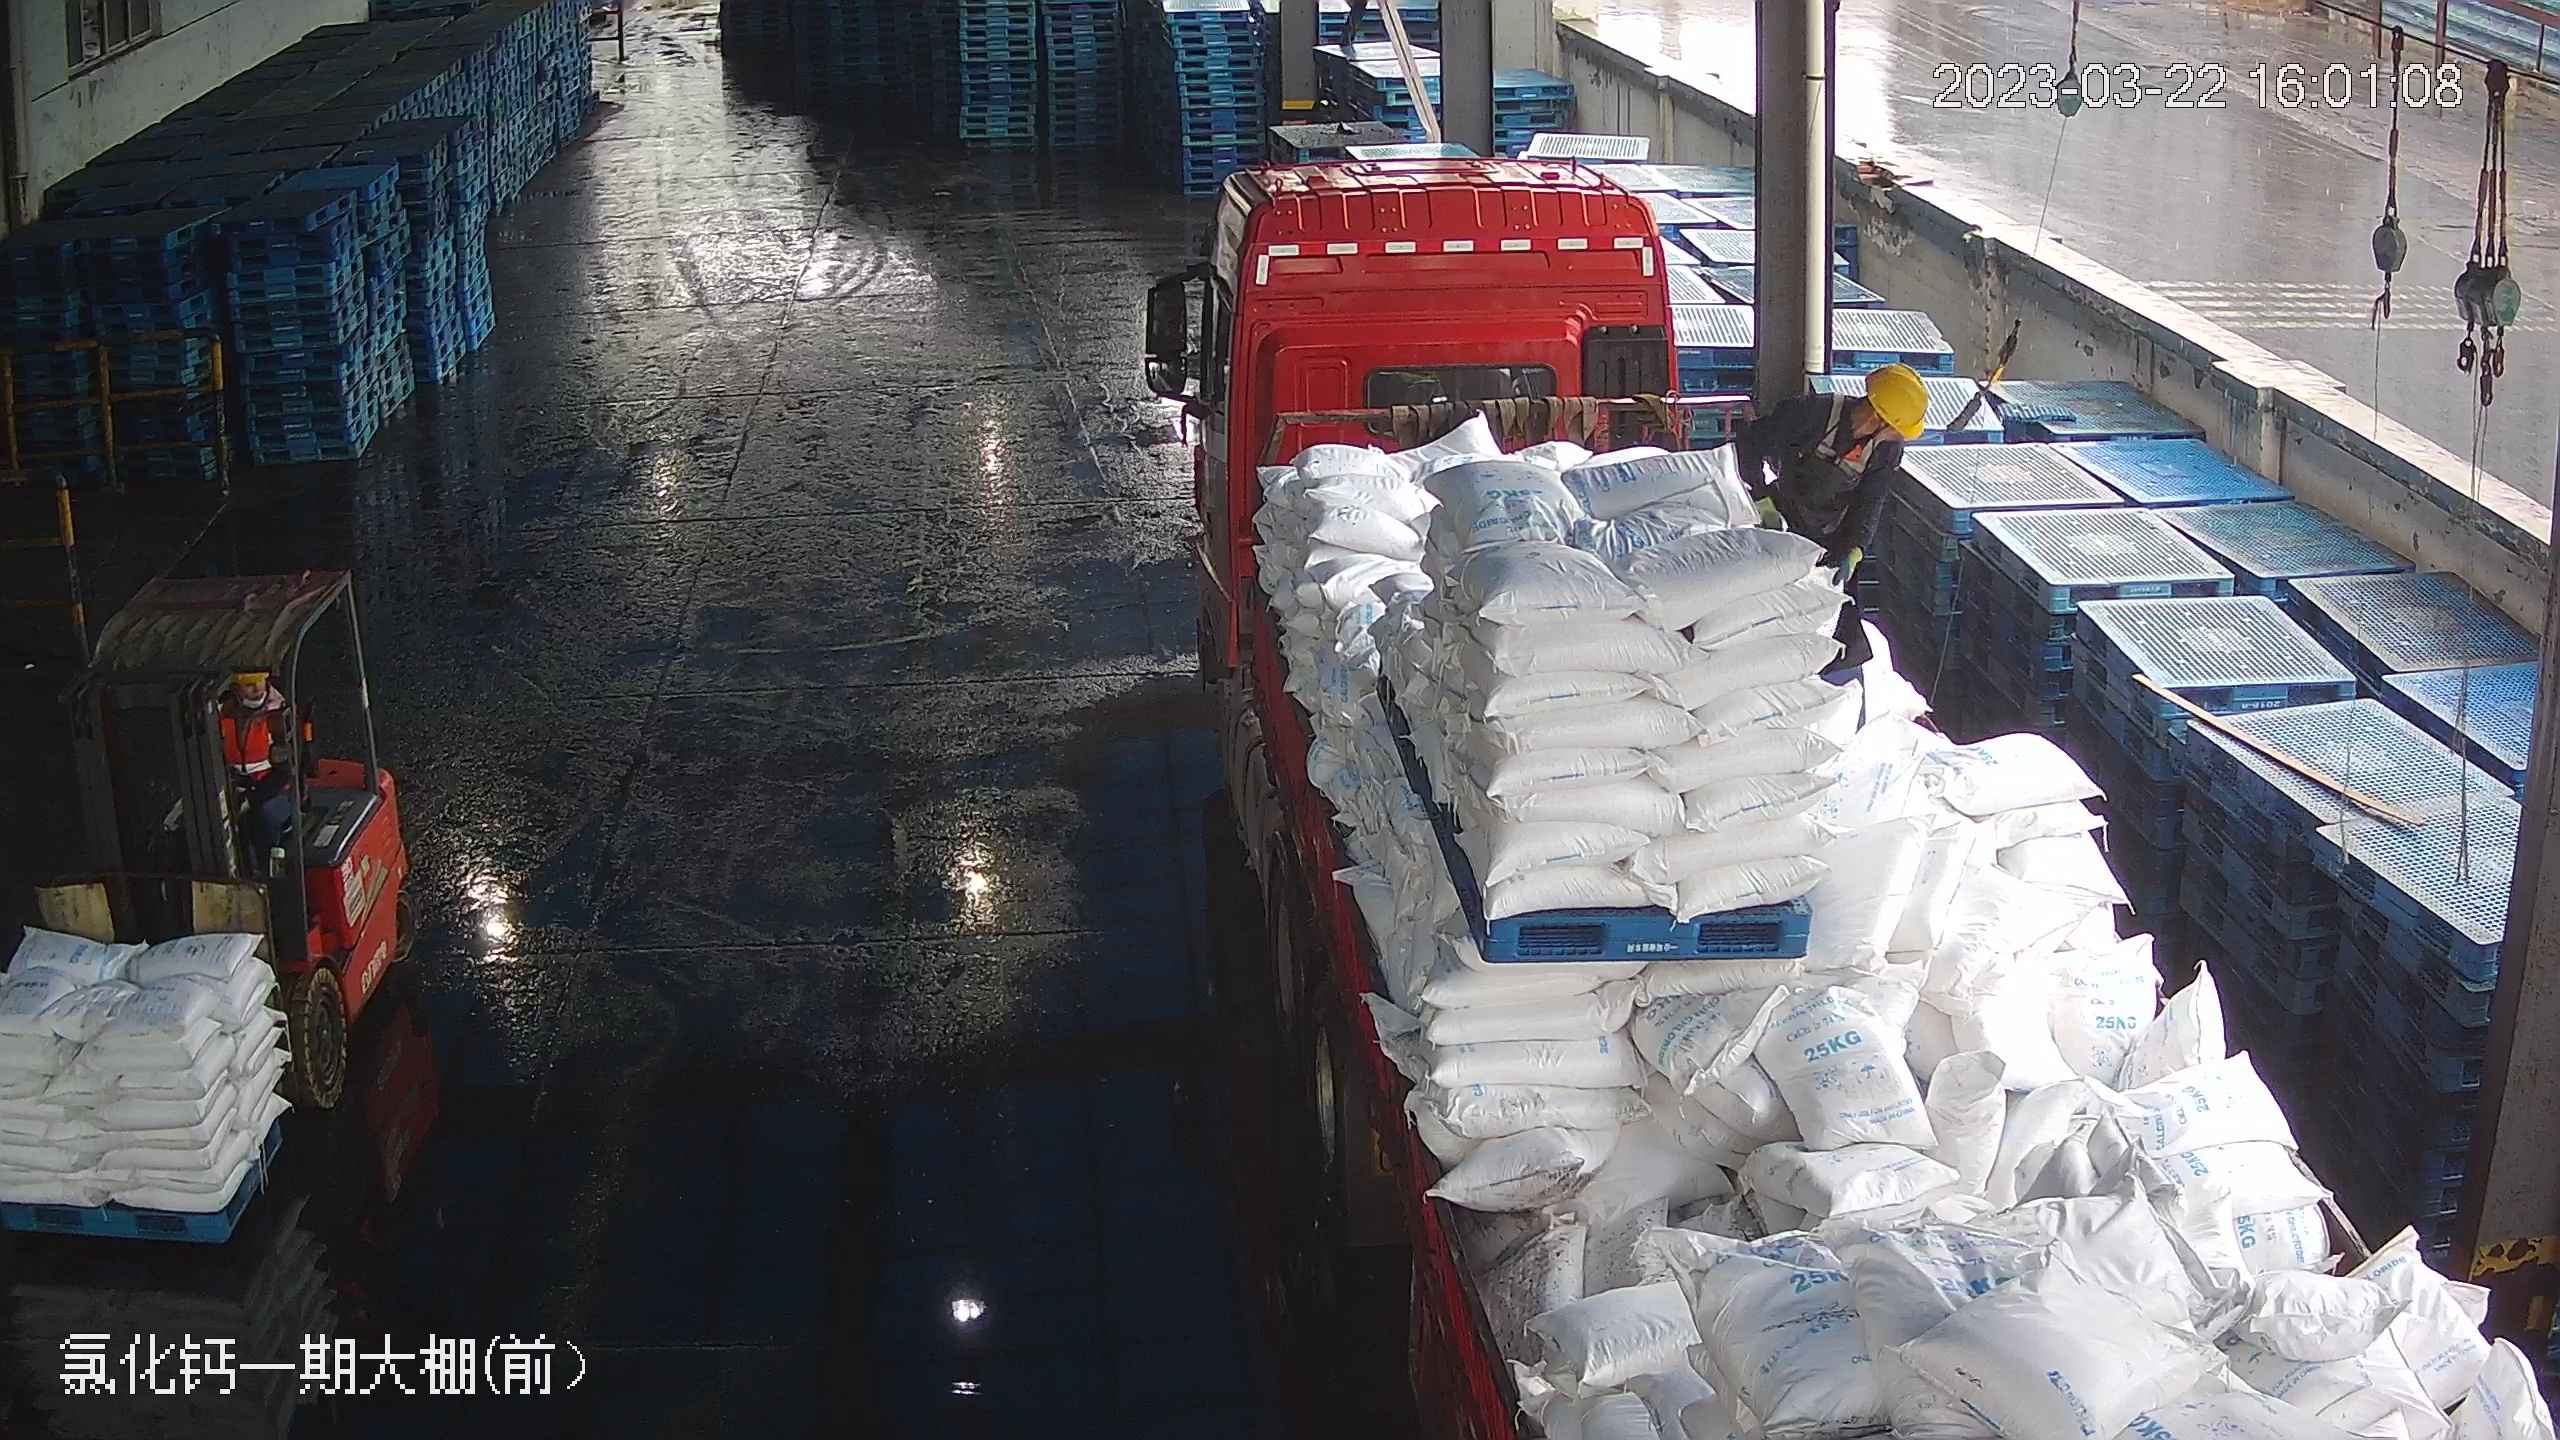belt: (1804, 395, 1881, 474)
head: (1793, 362, 1932, 480)
helmet: (1861, 361, 1932, 438)
people: (1735, 358, 1937, 700)
truck: (1149, 138, 2523, 1440)
